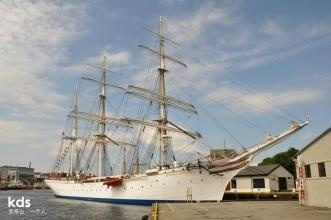fanchuan: (46, 16, 266, 199)
